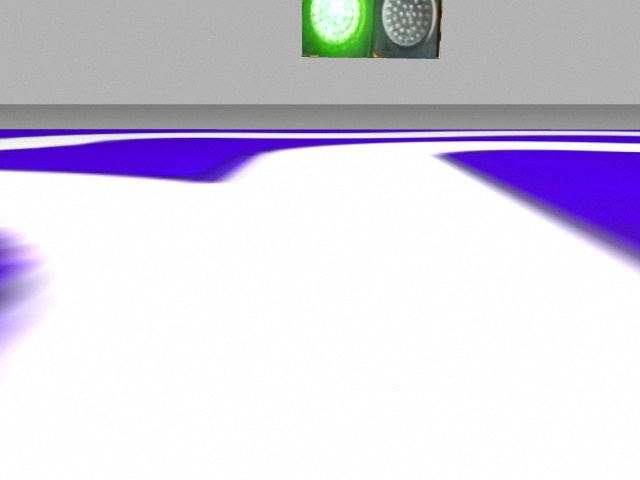green: (303, 2, 371, 57)
